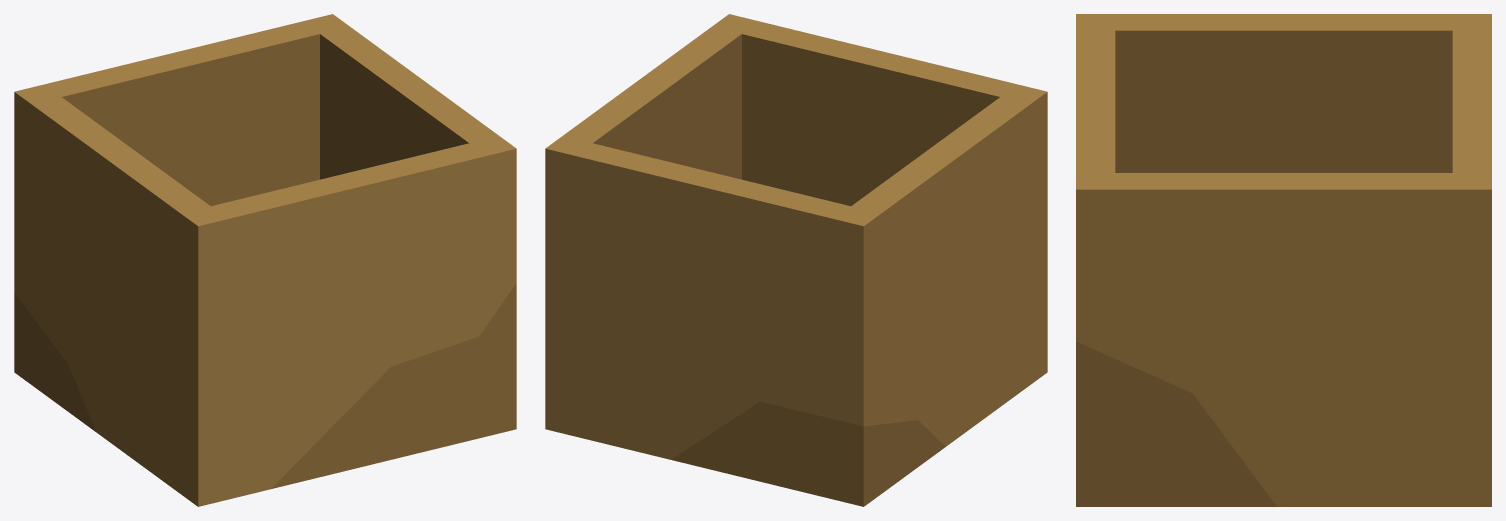
File: AI_Prop_Box.fbx
3 views of the same model, side by side, from view 1: azimuth 30°, elevation 25°; view 2: azimuth 150°, elevation 25°; view 3: azimuth 270°, elevation 25° (orthographic). The views are drawn at different scales.
Parts seen in each view (by area): view 1: AI_Prop_Box; view 2: AI_Prop_Box; view 3: AI_Prop_Box.
Part boxes in pixels (x1,y1,x2,y2): AI_Prop_Box: [14, 14, 516, 506]; AI_Prop_Box: [545, 14, 1047, 506]; AI_Prop_Box: [1076, 14, 1491, 506].
Bounding box in the file's own units: 0.6714 × 0.5652 × 0.6714.
